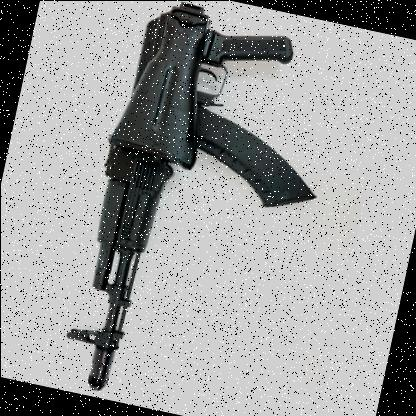rifle: (17, 0, 354, 416)
